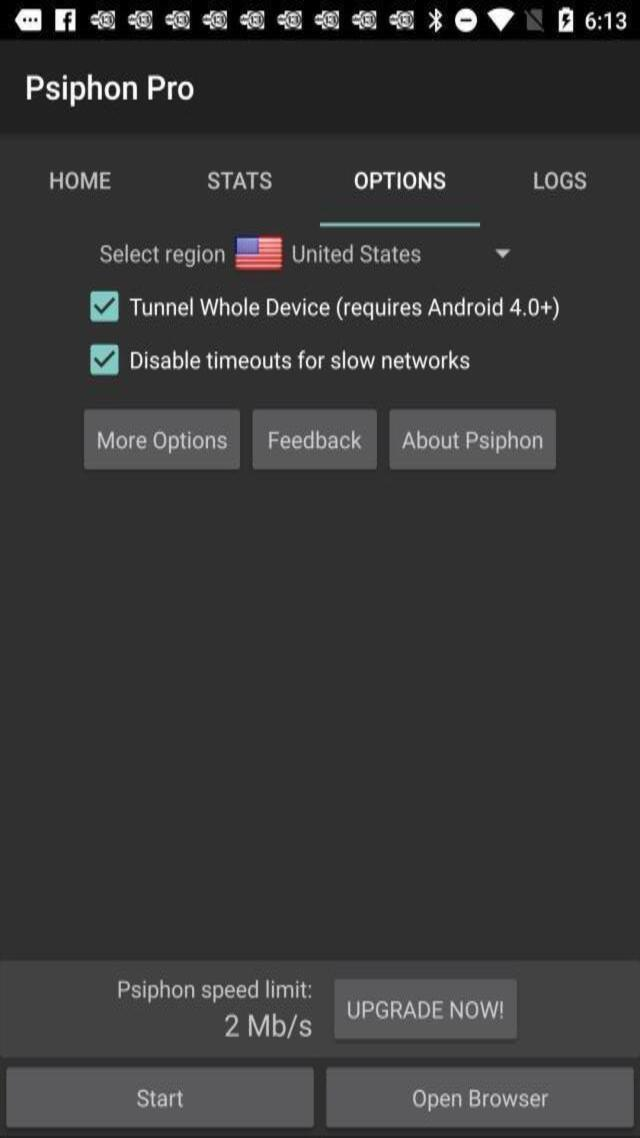Icon: (486, 5, 518, 35), (13, 7, 42, 37), (88, 8, 119, 33), (52, 6, 78, 35), (454, 8, 478, 36), (423, 7, 446, 36), (129, 10, 159, 31), (494, 241, 514, 263)
Image: (235, 235, 282, 271), (88, 340, 120, 379), (88, 290, 120, 326)
Text: (125, 294, 558, 324), (124, 344, 484, 377), (16, 70, 199, 110), (102, 976, 318, 1005), (288, 241, 426, 268), (215, 1010, 318, 1043), (96, 243, 225, 268)
TextButton: (2, 1066, 312, 1128), (330, 1066, 638, 1128), (331, 972, 524, 1041), (387, 406, 556, 468), (82, 406, 242, 470), (254, 406, 381, 471), (350, 165, 450, 193), (203, 167, 276, 198), (41, 168, 120, 194), (526, 168, 590, 196)
